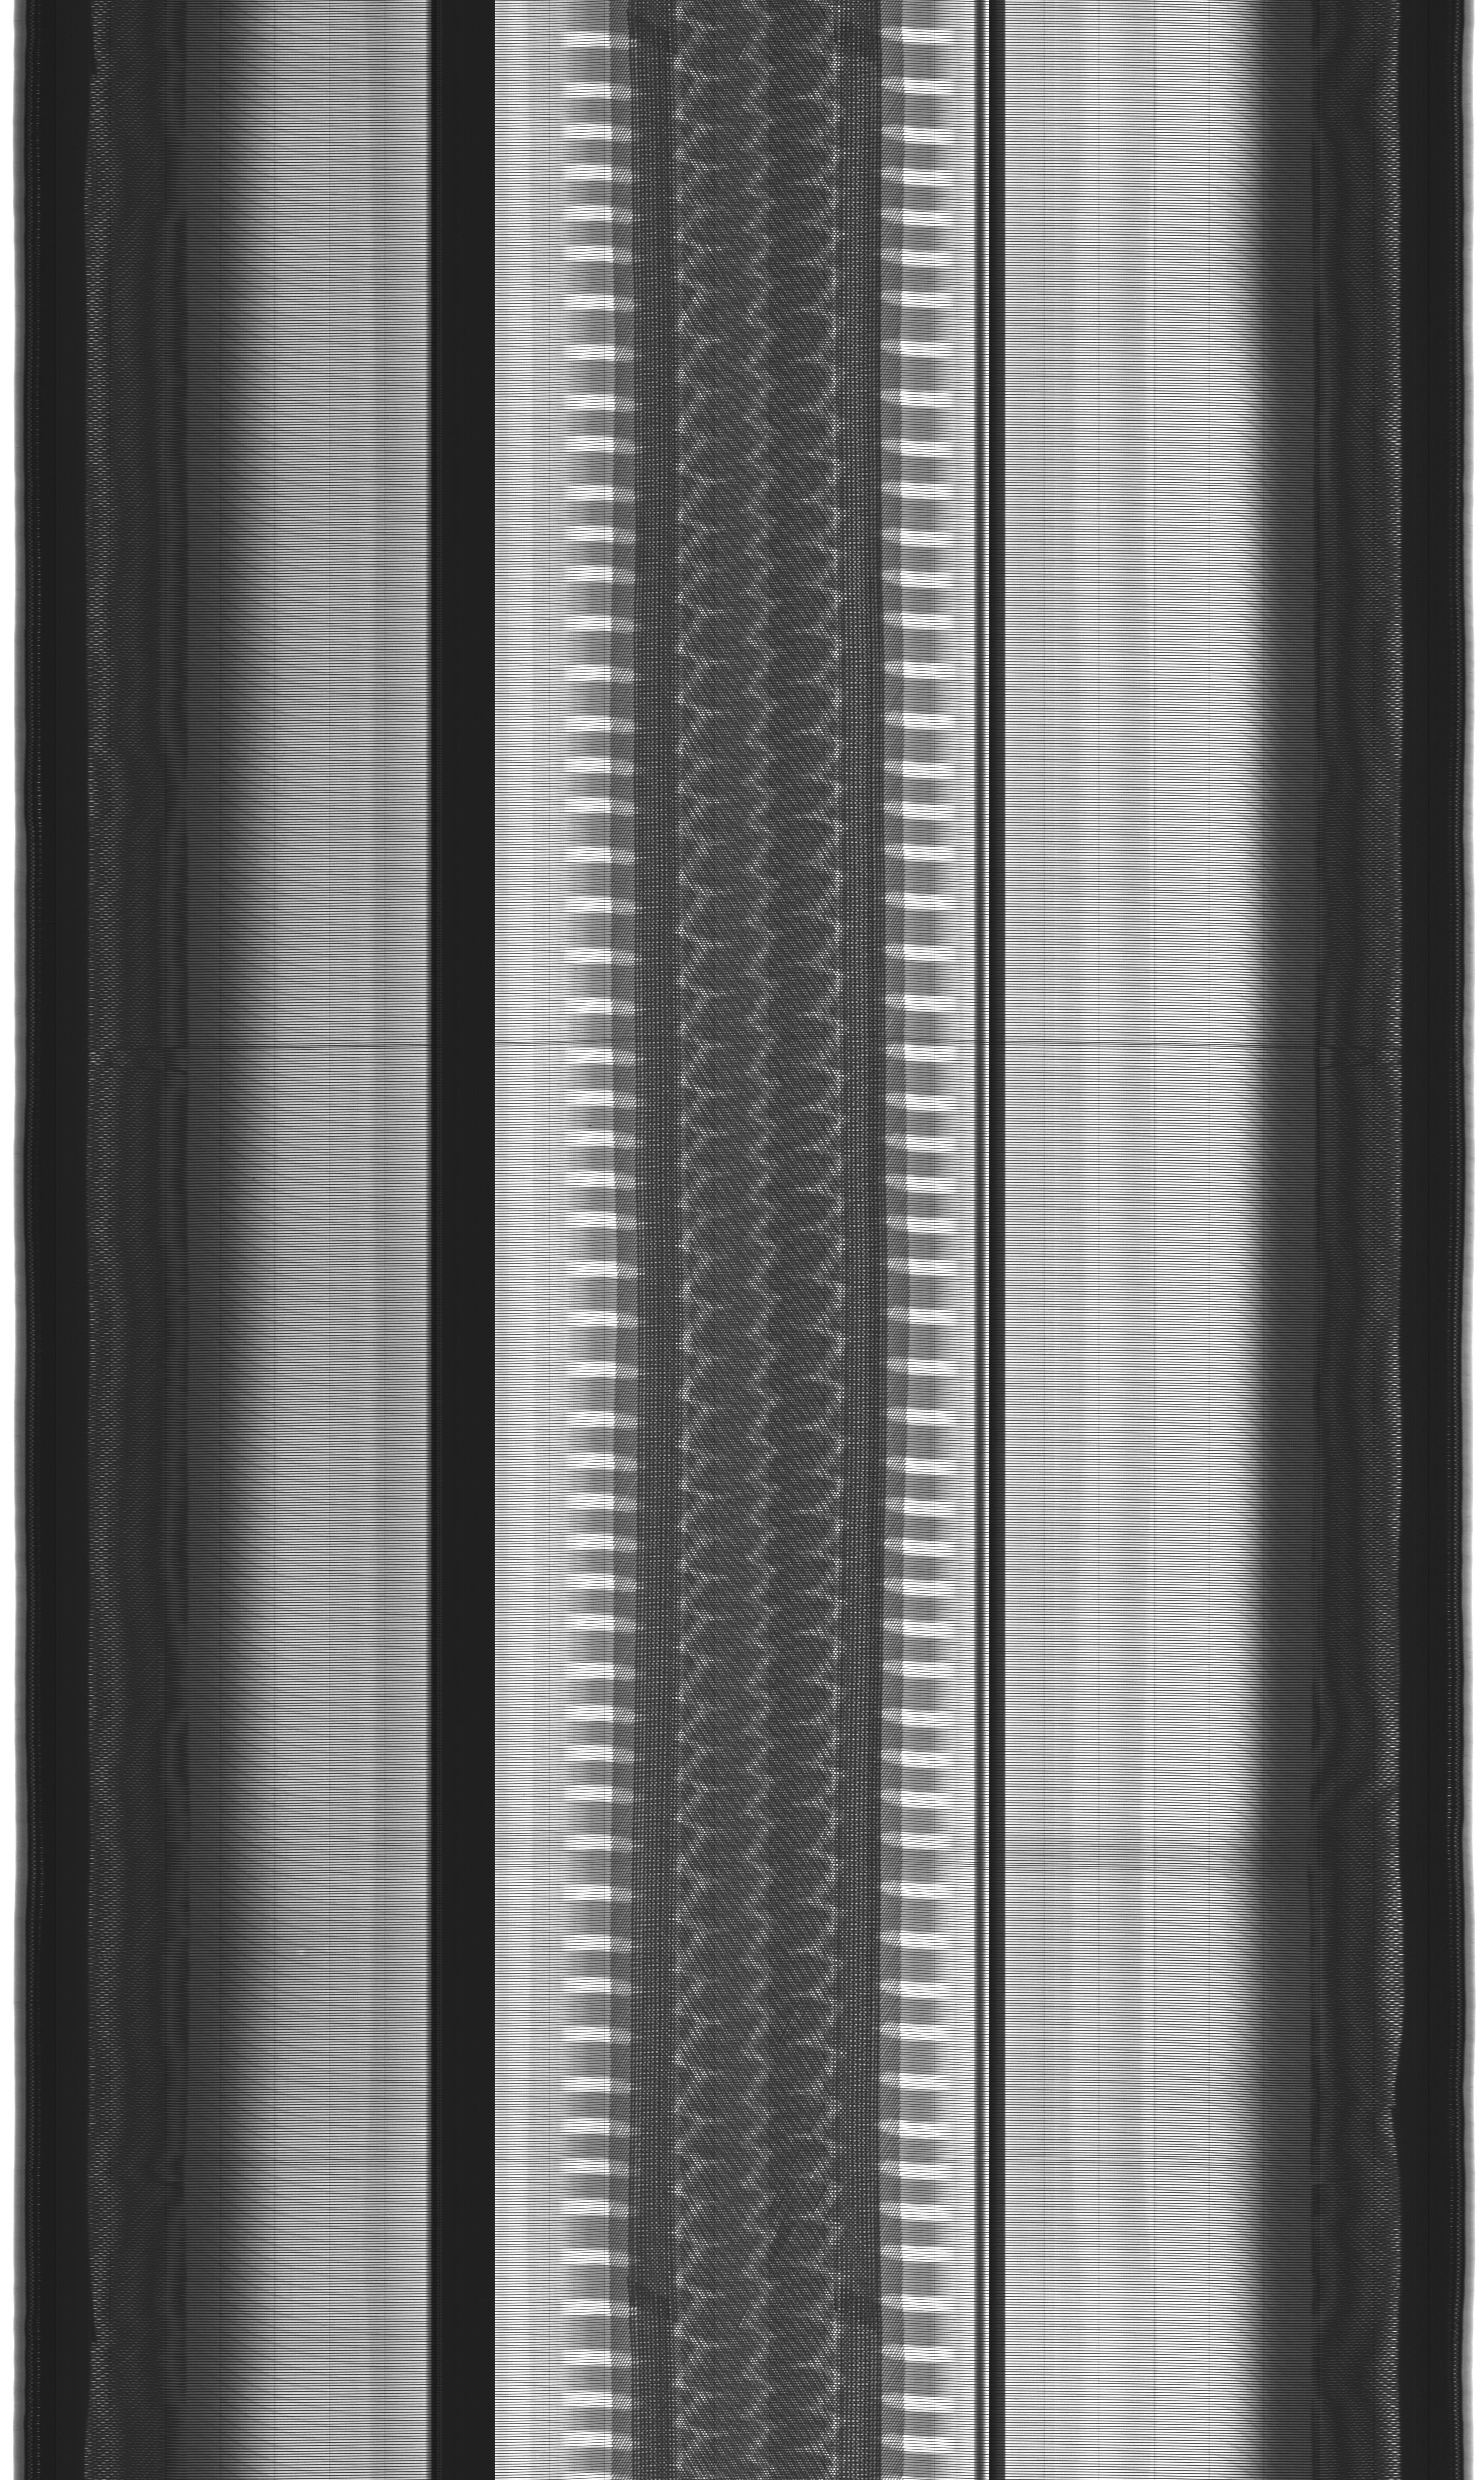72B: (277, 1936, 323, 1975)
